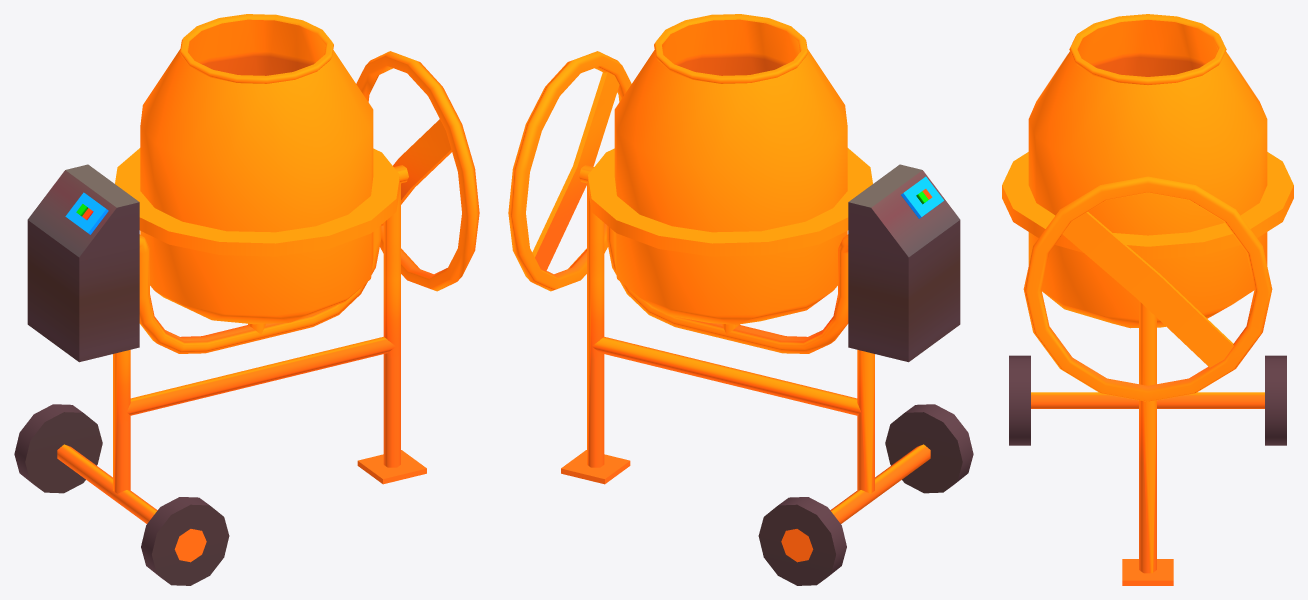
Rendered from cementMixer.glb.
3 views of the same model, side by side, from view 1: azimuth 30°, elevation 25°; view 2: azimuth 150°, elevation 25°; view 3: azimuth 270°, elevation 25° (orthographic).
Visible parts, largest first — view 1: concrete_mixer_atlas_0; view 2: concrete_mixer_atlas_0; view 3: concrete_mixer_atlas_0.
Part boxes in pixels (<box>): concrete_mixer_atlas_0: <box>14,14,479,585</box>; concrete_mixer_atlas_0: <box>508,14,973,585</box>; concrete_mixer_atlas_0: <box>1002,14,1293,585</box>.
Size of the model in its own units: 1.29 by 1.54 by 0.8795.
1 material, 1 textured.
